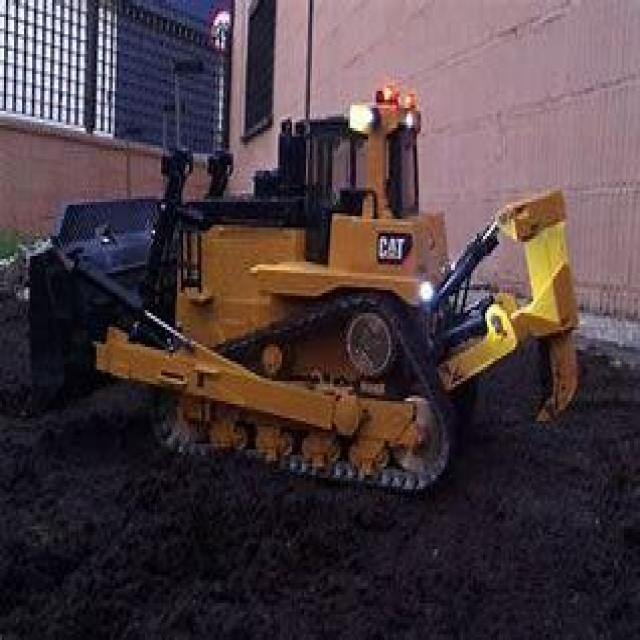Bulldozer: (18, 74, 594, 515)
